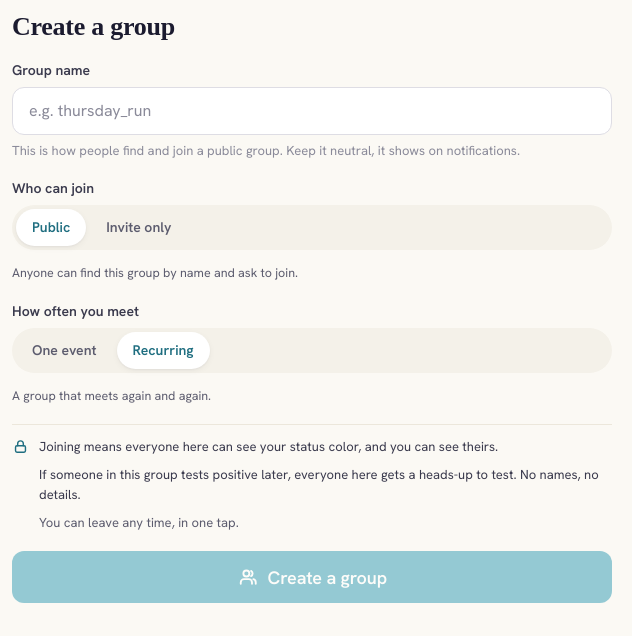
Test: GroupCreate › unavailable: keeps the form and shows the taken-name message
Step 1. Type "thursday_run" into the field labelled "Group name" → {"x": 312, "y": 111}, box [12,87,612,135]
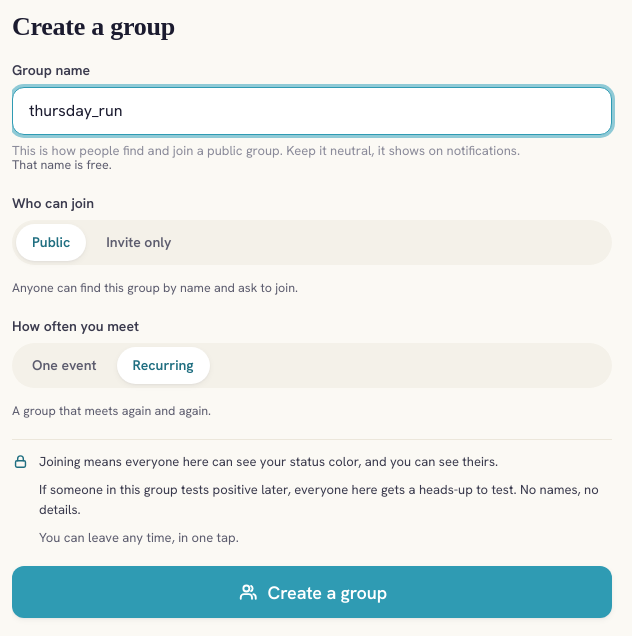
Expected: the text "That name is free." is shown, [12,156,112,173]
Step 2. Click the button "Create a group" → {"x": 312, "y": 592}, box [12,566,612,618]
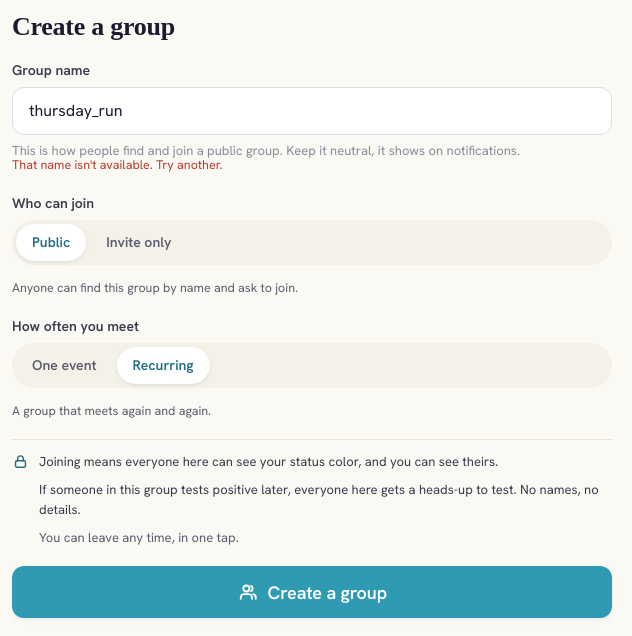
Expected: the text "That name isn't available. Try another." is shown, [12,156,222,173]
